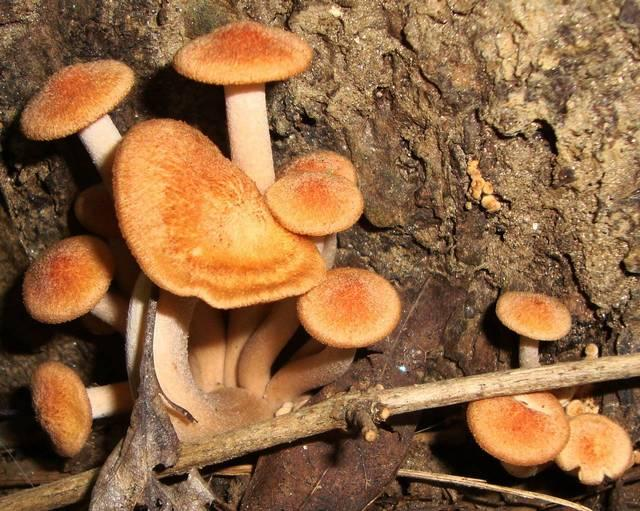Edible Mushroom: (21, 19, 401, 452), (463, 378, 631, 490), (493, 285, 569, 366)
